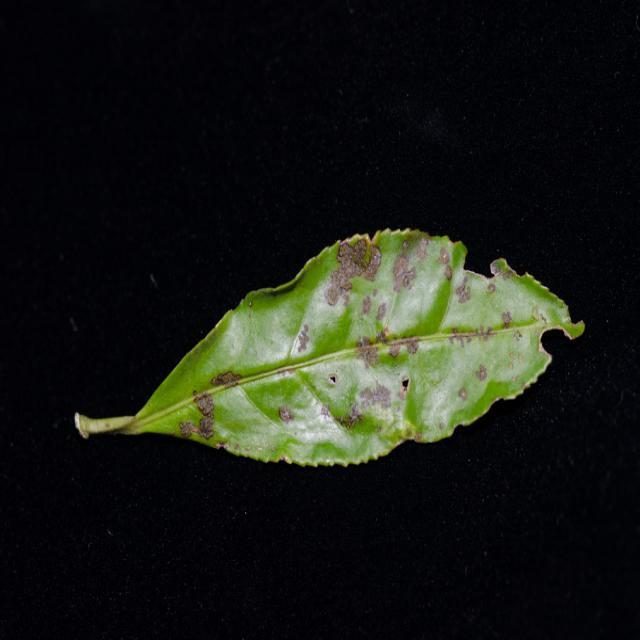Tea red rust: (192, 227, 577, 457)
